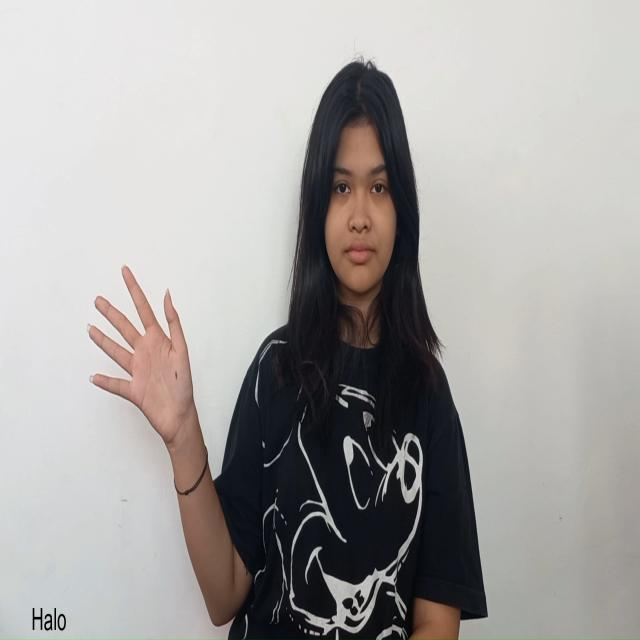Halo -BISINDO-: (86, 262, 205, 449)
